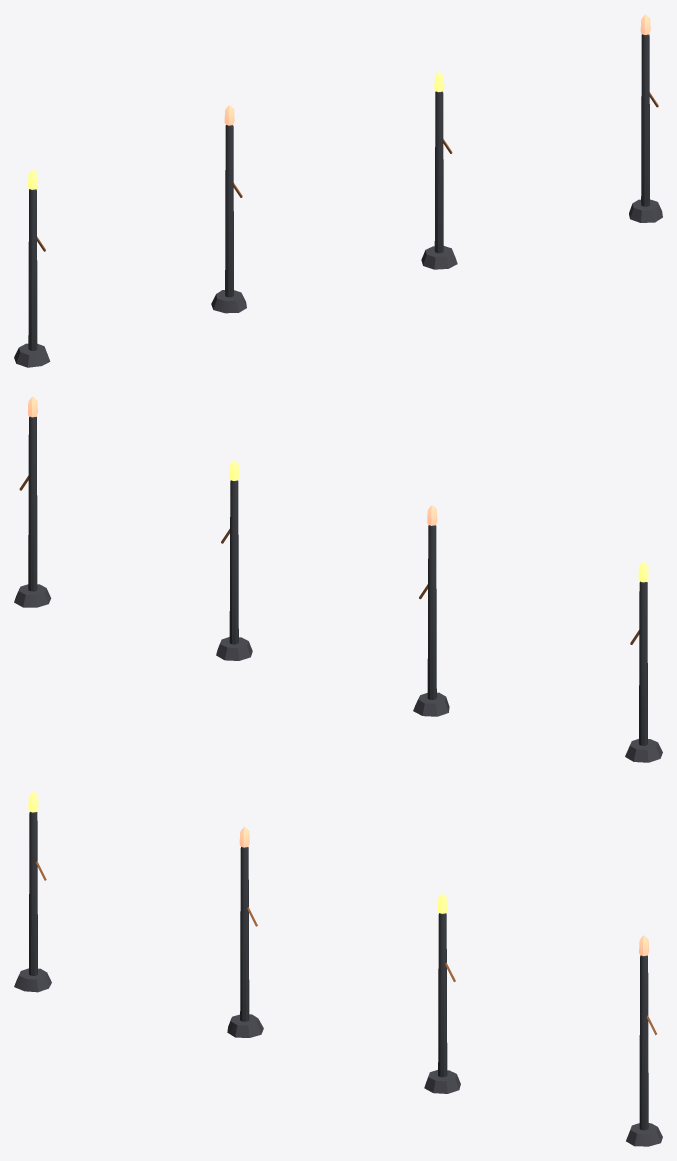
The model's file is deco_sensor_stake_row.fbx.
3 views of the same model, one above another, from view 1: azimuth 30°, elevation 25°; view 2: azimuth 150°, elevation 25°; view 3: azimuth 330°, elevation 25° (orthographic).
Parts seen in each view (by area): view 1: SensorStake_Row_Stake2, SensorStake_Row_Stake4, SensorStake_Row_Stake1, SensorStake_Row_Stake3; view 2: SensorStake_Row_Stake4, SensorStake_Row_Stake2, SensorStake_Row_Stake3, SensorStake_Row_Stake1; view 3: SensorStake_Row_Stake4, SensorStake_Row_Stake2, SensorStake_Row_Stake3, SensorStake_Row_Stake1.
Part boxes in pixels (bbox=[...]): SensorStake_Row_Stake2: bbox=[211, 105, 246, 313]; SensorStake_Row_Stake4: bbox=[629, 14, 662, 222]; SensorStake_Row_Stake1: bbox=[14, 169, 50, 367]; SensorStake_Row_Stake3: bbox=[421, 71, 457, 269]; SensorStake_Row_Stake4: bbox=[14, 396, 51, 607]; SensorStake_Row_Stake2: bbox=[413, 505, 449, 716]; SensorStake_Row_Stake3: bbox=[216, 460, 252, 660]; SensorStake_Row_Stake1: bbox=[625, 561, 662, 762]; SensorStake_Row_Stake4: bbox=[626, 935, 662, 1146]; SensorStake_Row_Stake2: bbox=[227, 826, 263, 1037]; SensorStake_Row_Stake3: bbox=[424, 893, 460, 1093]; SensorStake_Row_Stake1: bbox=[14, 791, 51, 992].
Size of the model in its own units: 633 by 190 by 52.19.
